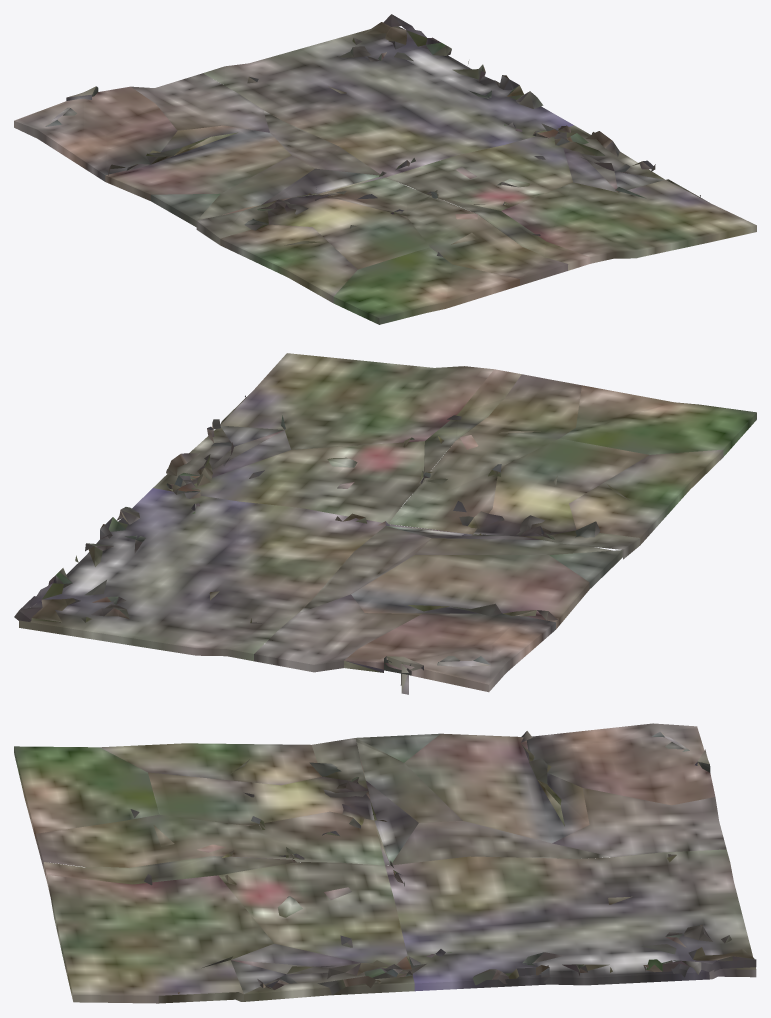
3 views of the same model, one above another, from view 1: azimuth 30°, elevation 25°; view 2: azimuth 150°, elevation 25°; view 3: azimuth 270°, elevation 25° (orthographic). The views are drawn at different scales.
Visible parts, largest first — view 1: Mesh_0; view 2: Mesh_0; view 3: Mesh_0.
Boxes of the visible parts, x1,y1,x2,y2 form: Mesh_0: [14, 14, 756, 324]; Mesh_0: [14, 353, 756, 694]; Mesh_0: [14, 723, 756, 1003].
Bounding box in the file's own units: 1064 × 84.52 × 1319.
1 material, 1 textured.
